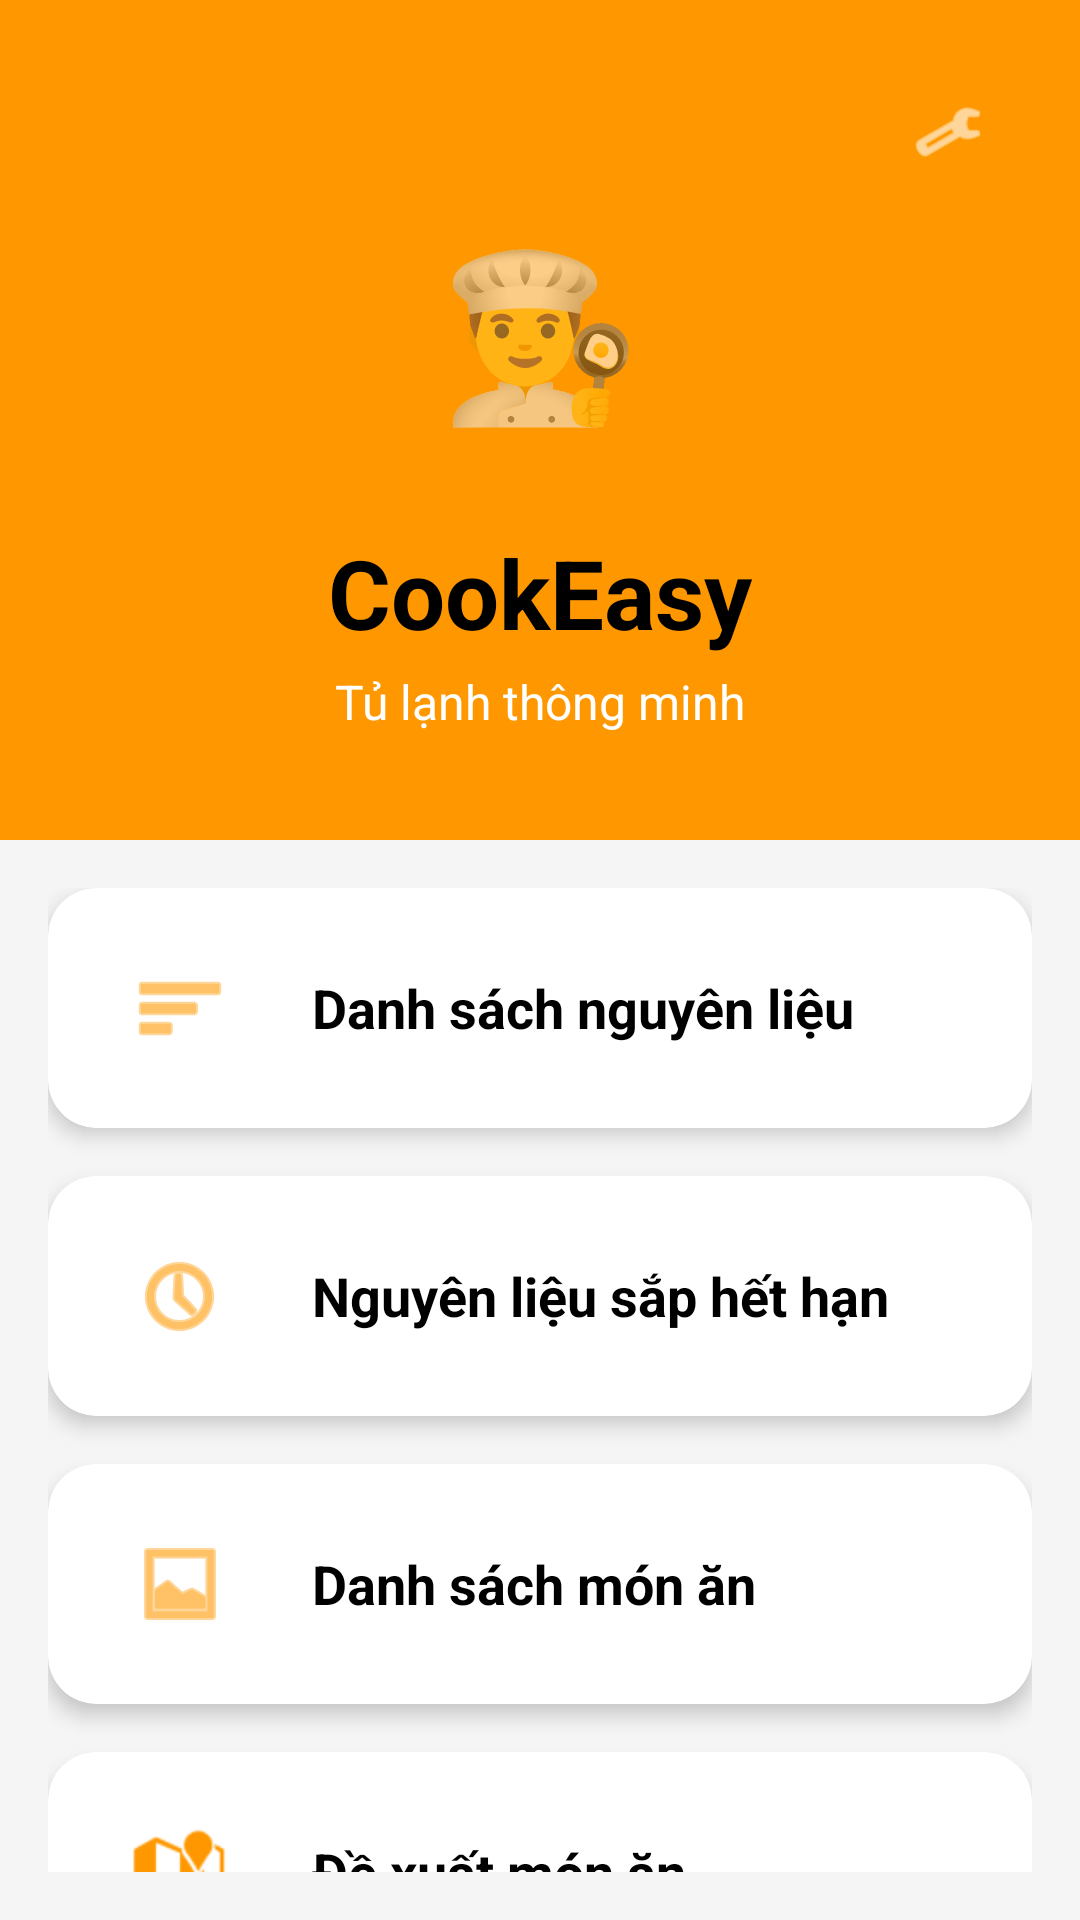

Named icons in this screenshot (1080 x 1920) and their centers, [x,y]:
Expiring: [179,1296]
Ingredients: [180,1008]
Settings: [947,132]
